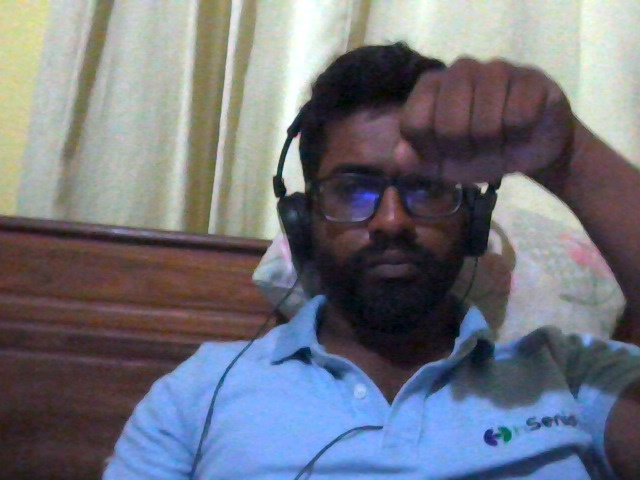Yes: (365, 33, 616, 208)
